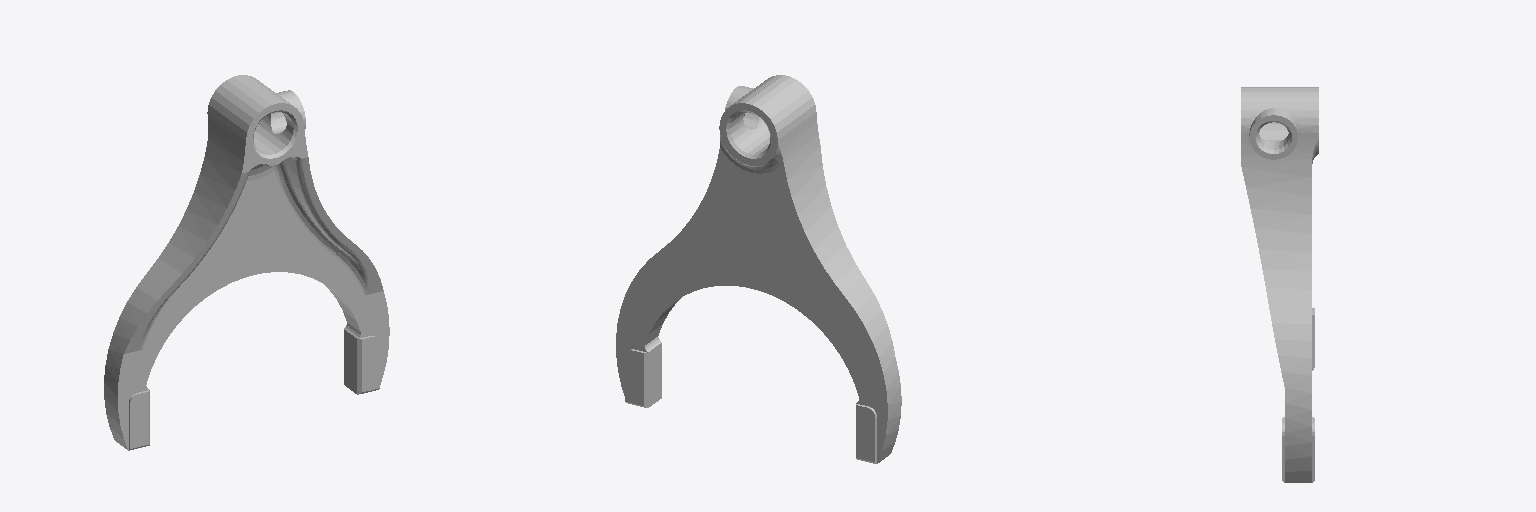
The model's file is 79. Вилка первой и второй передач.obj.
3 renders of one model, left to right at view 1: azimuth 30°, elevation 25°; view 2: azimuth 150°, elevation 25°; view 3: azimuth 270°, elevation 25°, orthographic.
Parts seen in each view (by area): view 1: Твердое тело1; view 2: Твердое тело1; view 3: Твердое тело1.
Part boxes in pixels (x1,y1,x2,y2): Твердое тело1: (104, 75, 389, 450); Твердое тело1: (616, 75, 901, 463); Твердое тело1: (1241, 87, 1318, 482).
Bounding box in the file's own units: 102 × 119 × 25.